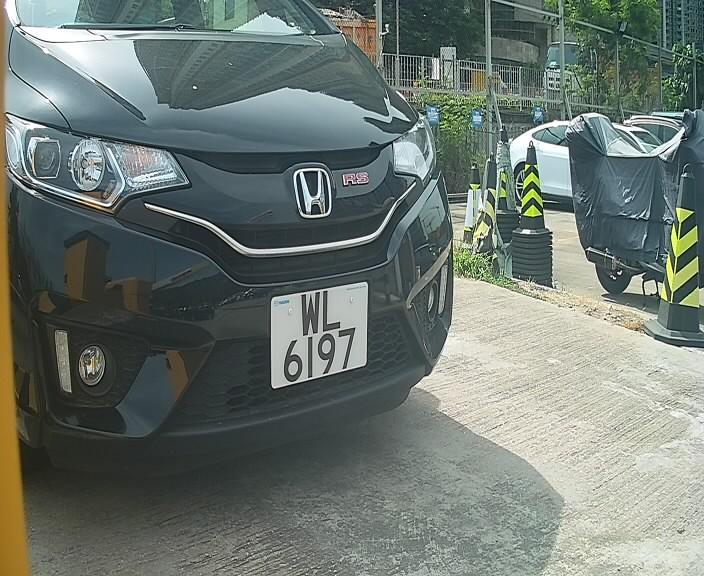License Plate: (258, 270, 371, 399)
